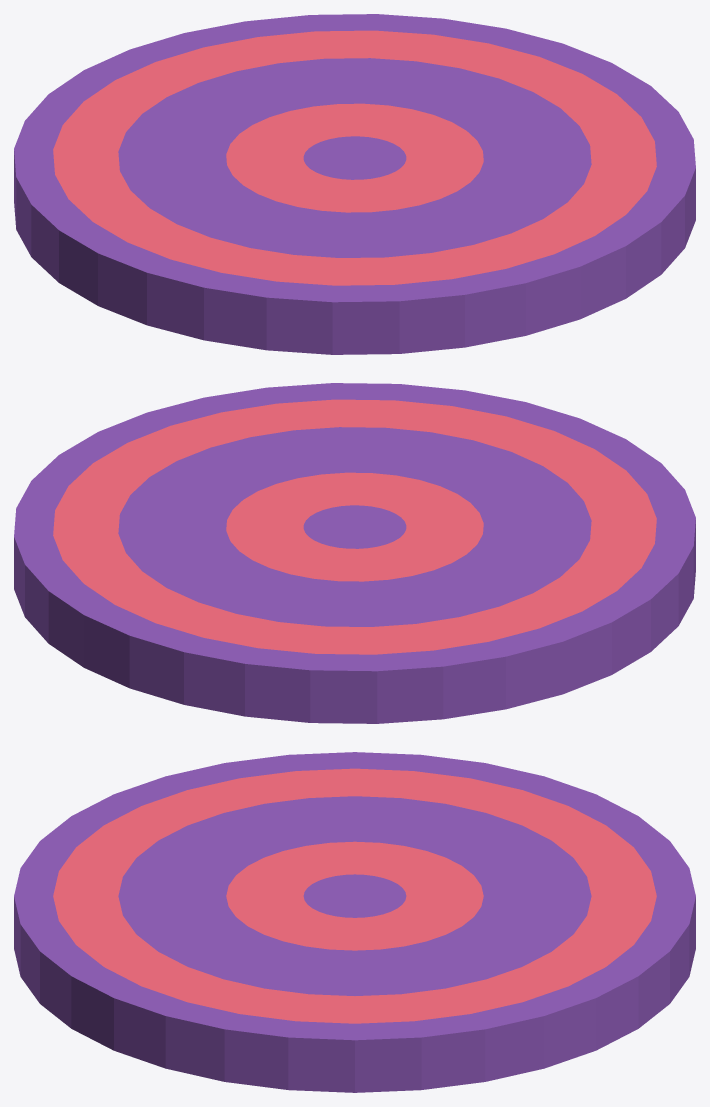
Rendered from Target_1.fbx.
3 renders of one model, top to bottom at view 1: azimuth 30°, elevation 25°; view 2: azimuth 150°, elevation 25°; view 3: azimuth 270°, elevation 25°, orthographic.
Visible parts, largest first — view 1: Cylinder; view 2: Cylinder; view 3: Cylinder.
Boxes of the visible parts, <box> form: Cylinder: <box>14,14,695,354</box>; Cylinder: <box>14,383,695,723</box>; Cylinder: <box>14,752,695,1092</box>.
Bounding box in the file's own units: 200 × 17.03 × 200.
